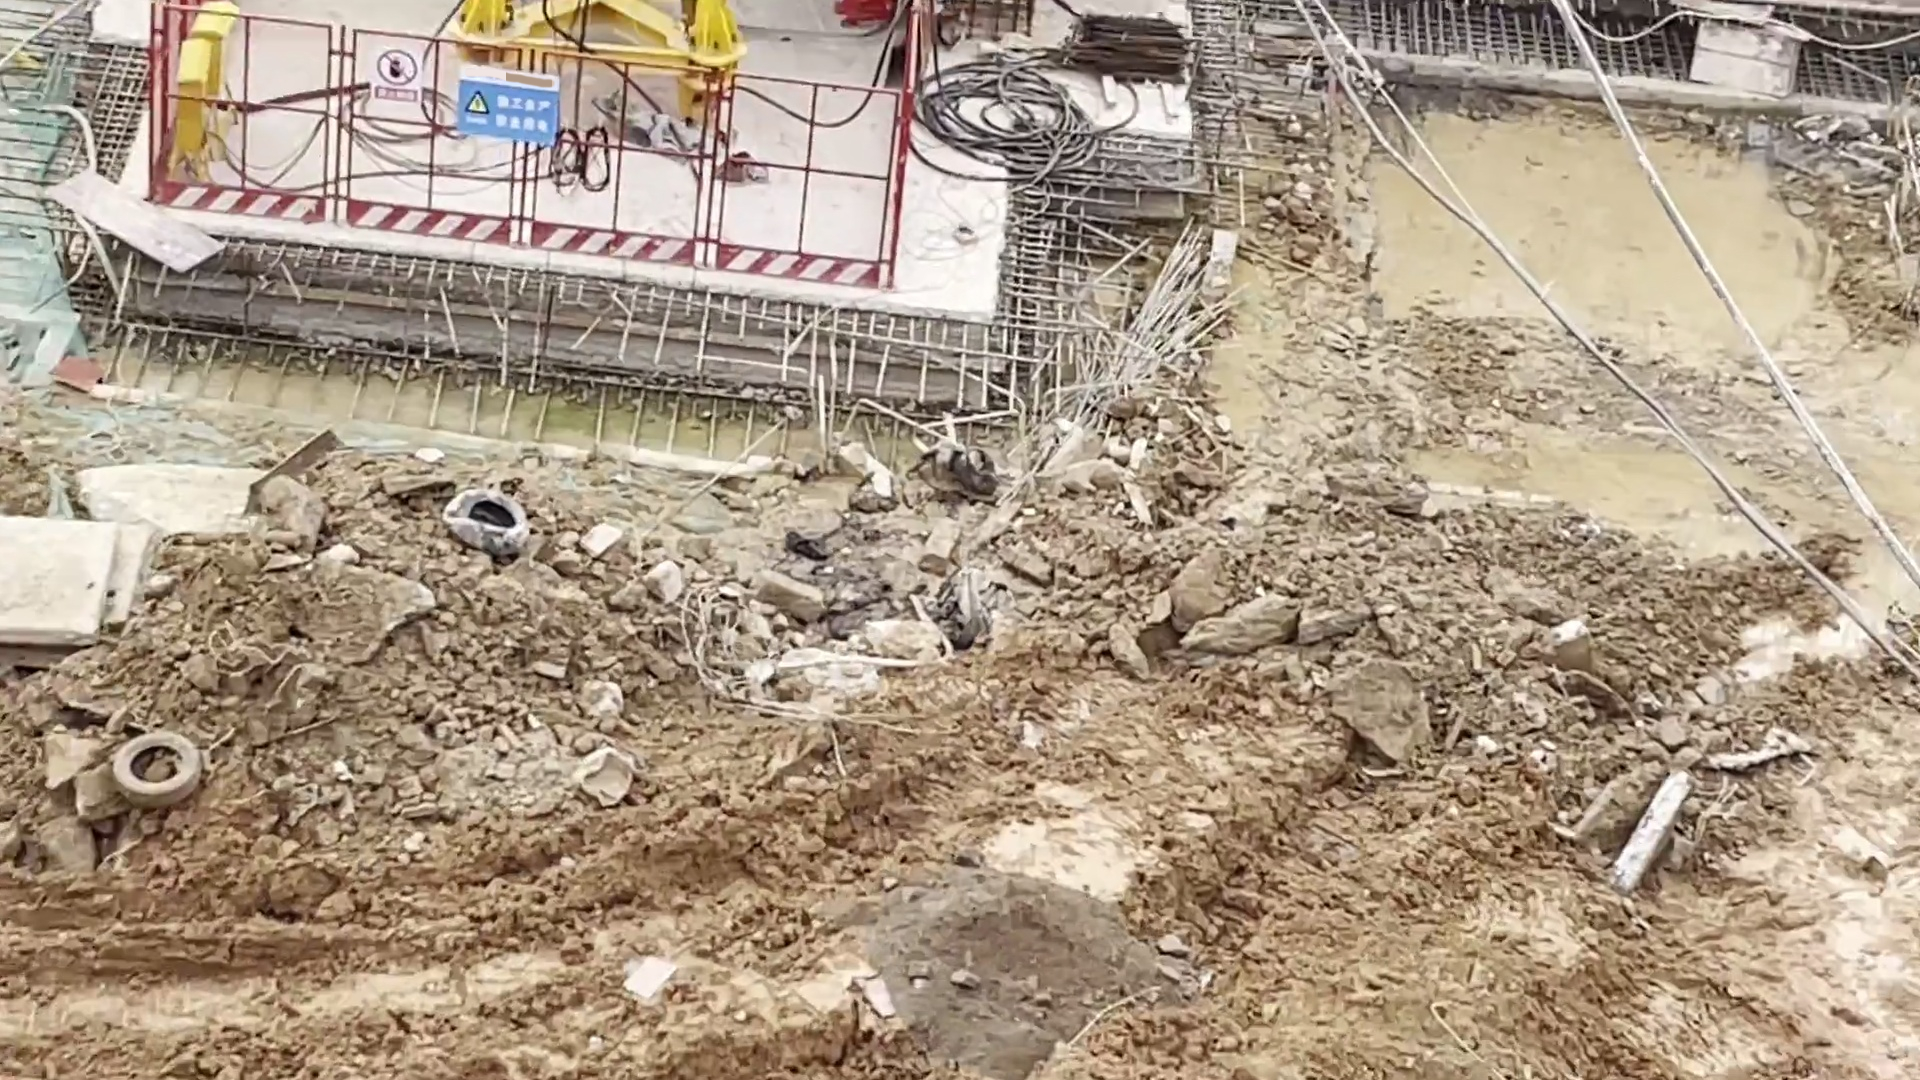ebox: (177, 1, 240, 169)
fence: (148, 8, 940, 281)
slogan: (467, 65, 556, 138), (372, 49, 419, 104)
